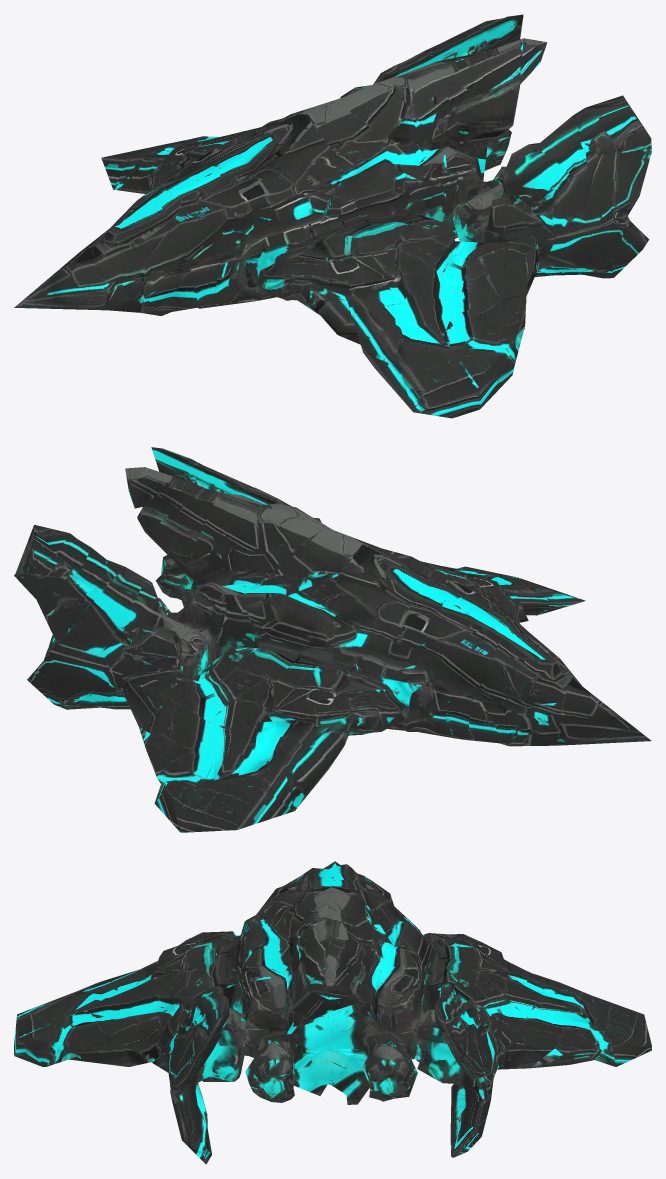
The model's file is swarm.glb.
3 views of the same model, one above another, from view 1: azimuth 30°, elevation 25°; view 2: azimuth 150°, elevation 25°; view 3: azimuth 270°, elevation 25° (orthographic). The views are drawn at different scales.
Size of the model in its own units: 1.83 by 0.6168 by 1.87.
1 material, 1 textured.
